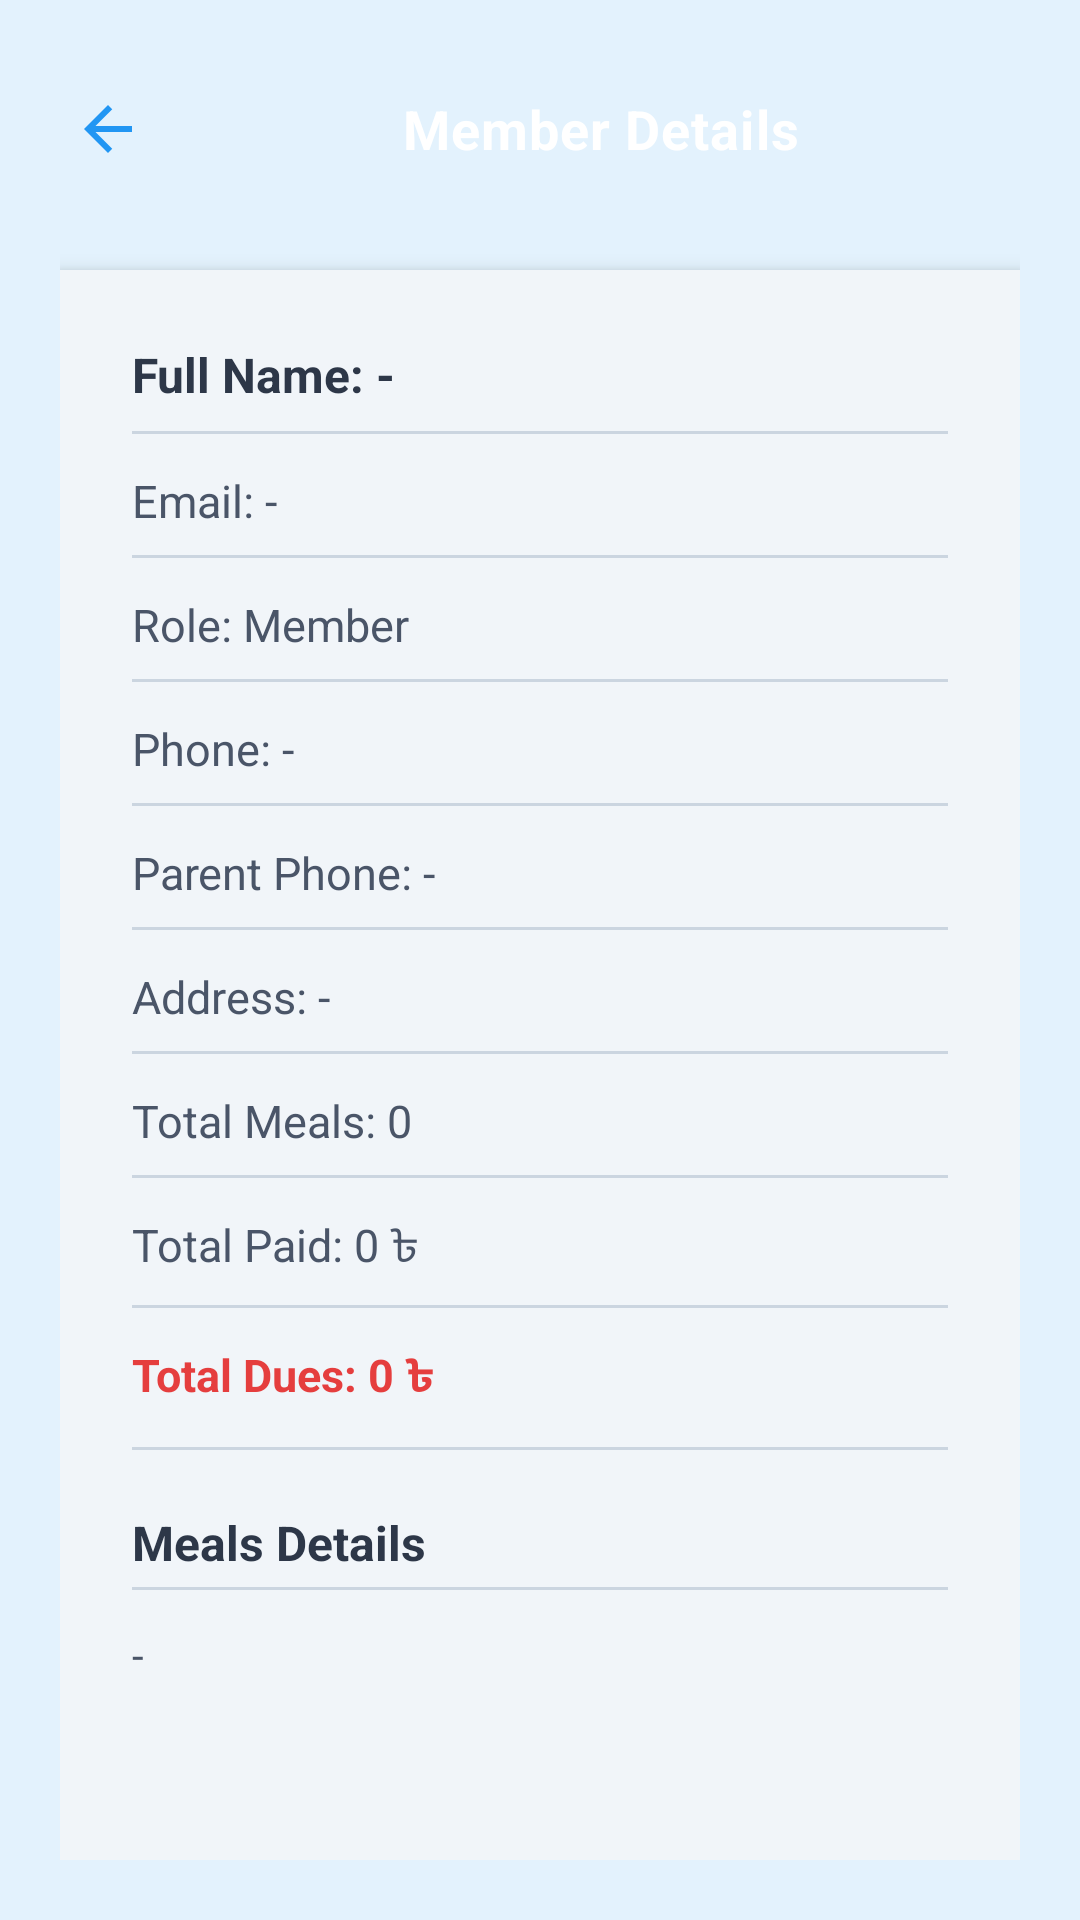

Screen size 1080w x 1920h. Icon name, then its box in pixels as [left=x1, top=y1, right=x2, bottom=y2]:
arrow back: [left=84, top=105, right=132, bottom=153]
